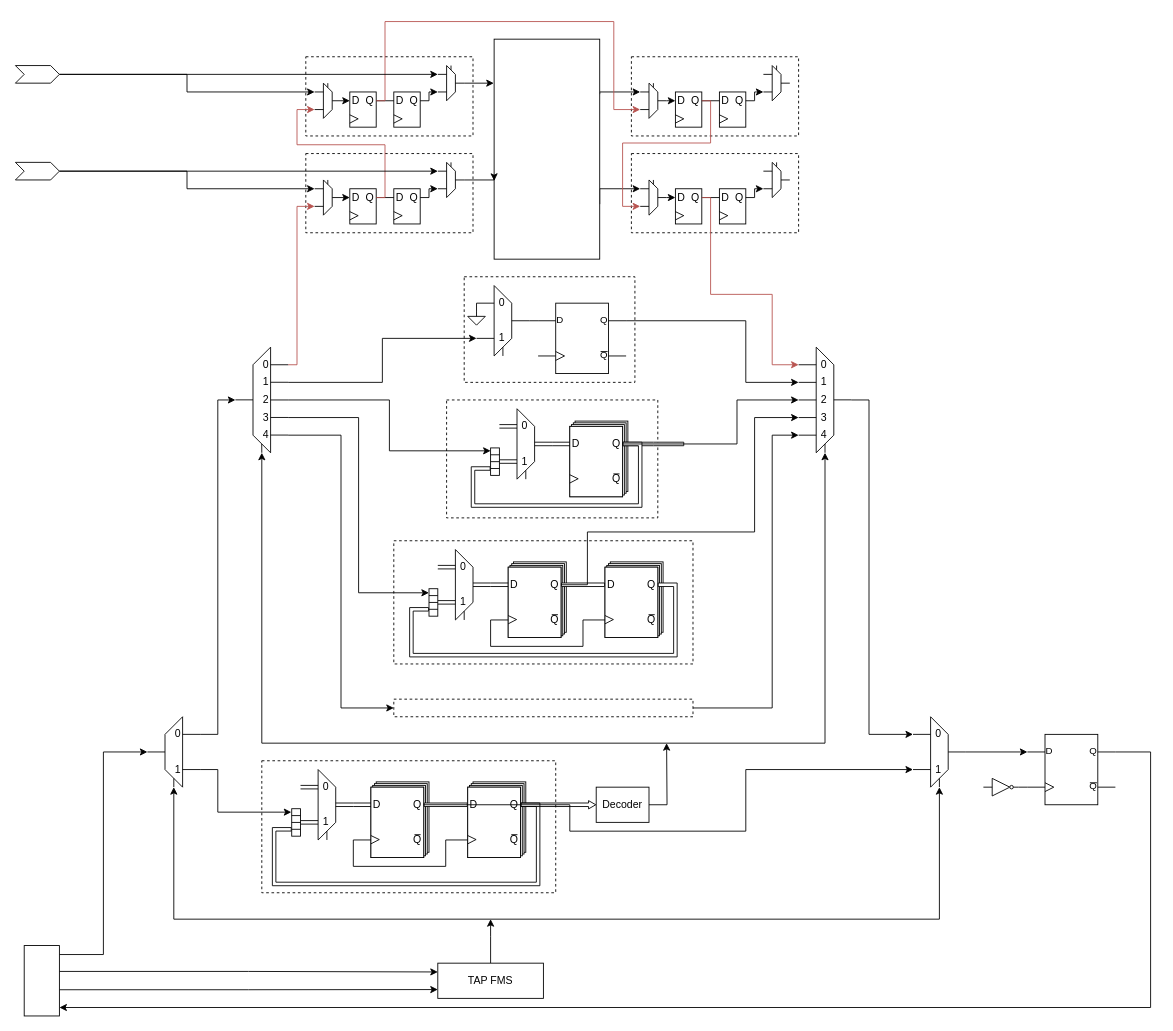
This 1173x1031 diagram has some shape labels left out. Each missing label, with the box of its shape:
JTAG: (23, 945, 59, 1016)
LOGIC: (493, 38, 600, 259)
